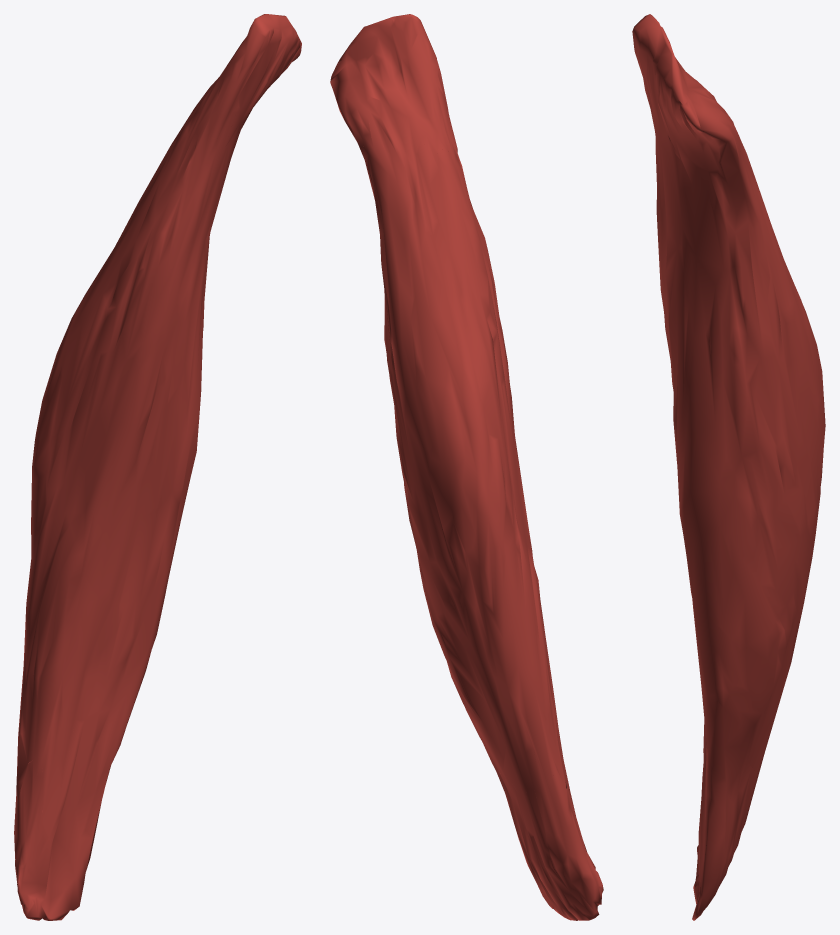
Rendered from musculos-long-head-of-triceps-brachii-r.glb.
3 renders of one model, left to right at view 1: azimuth 30°, elevation 25°; view 2: azimuth 150°, elevation 25°; view 3: azimuth 270°, elevation 25°, orthographic. The views are drawn at different scales.
Visible parts, largest first — view 1: Long head of triceps brachii.r; view 2: Long head of triceps brachii.r; view 3: Long head of triceps brachii.r.
Part boxes in pixels (box(x1,y1,x2,y2)): Long head of triceps brachii.r: box(14, 14, 301, 920); Long head of triceps brachii.r: box(330, 14, 603, 920); Long head of triceps brachii.r: box(632, 14, 825, 920).
Size of the model in its own units: 0.0917 by 0.2721 by 0.0474.
